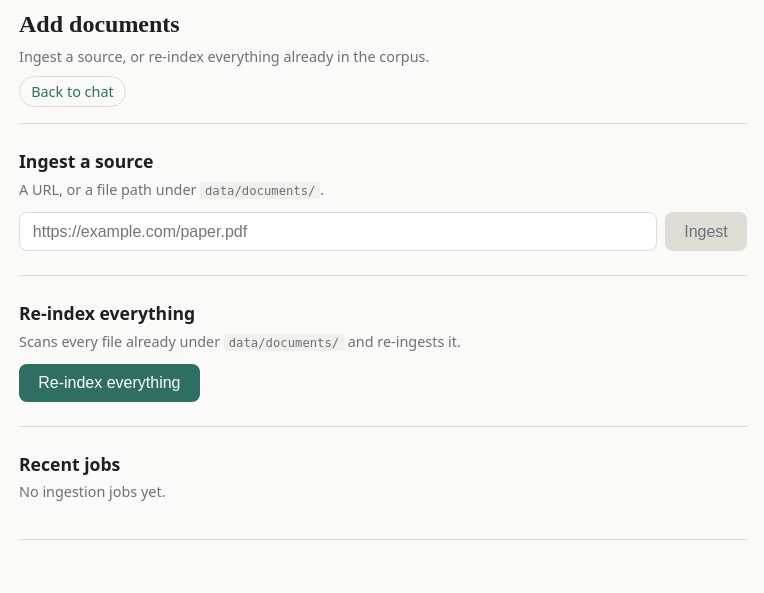
Scenario: IngestPage › shows a visible error when the initial ingest request fails
Type "bad.exe" into the field named "source" at (338, 232), box [19,212,657,251]
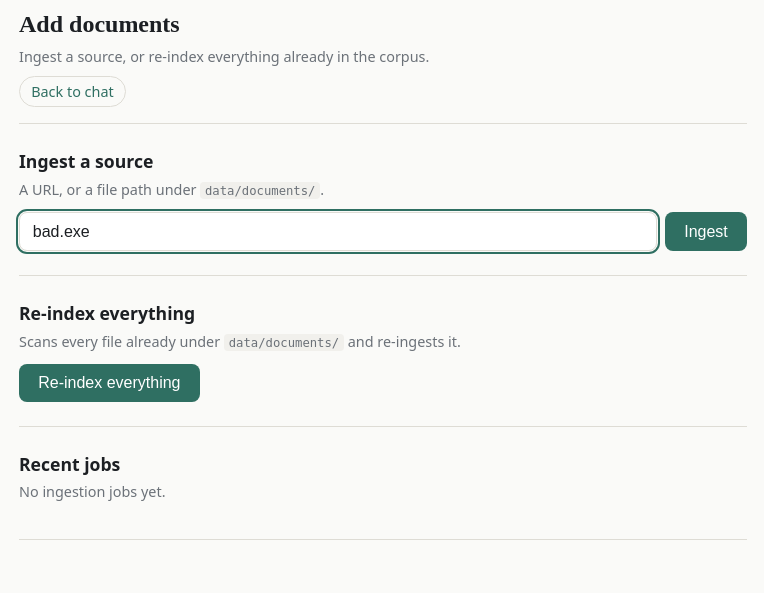
Click the button "Ingest" at (706, 232), box [665,212,747,251]
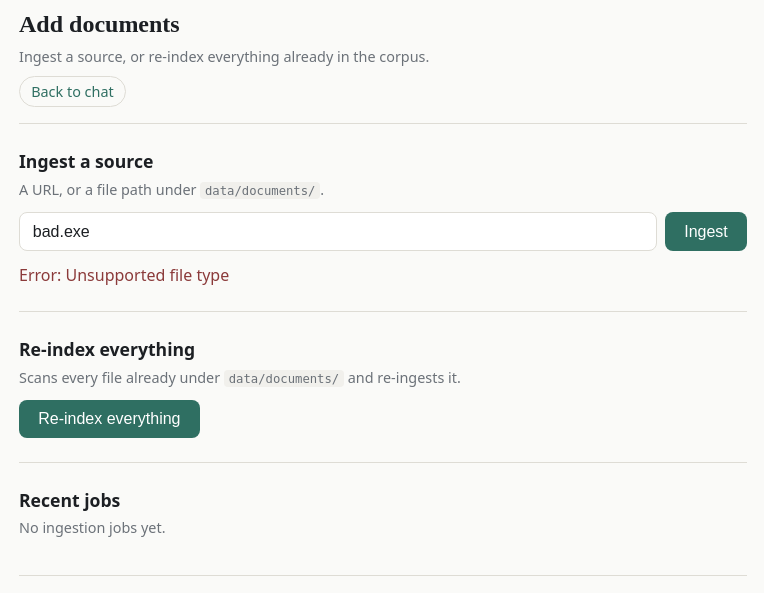
Expected: the text "Error: Unsupported file type" is shown, [19,264,229,286]
